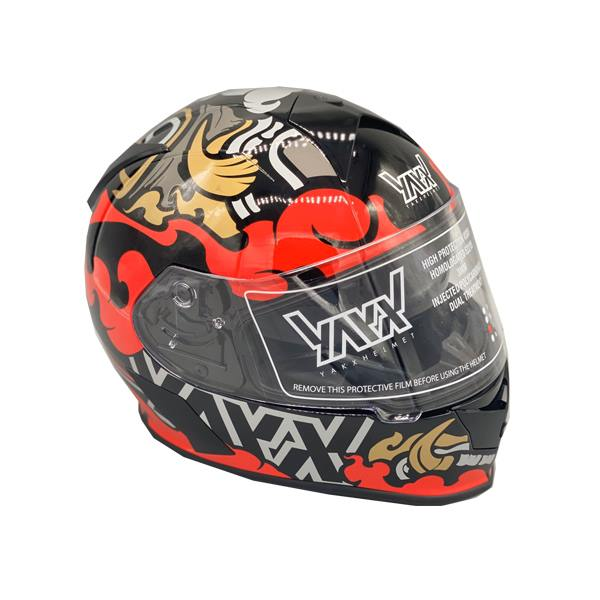helmet: (84, 86, 509, 506)
